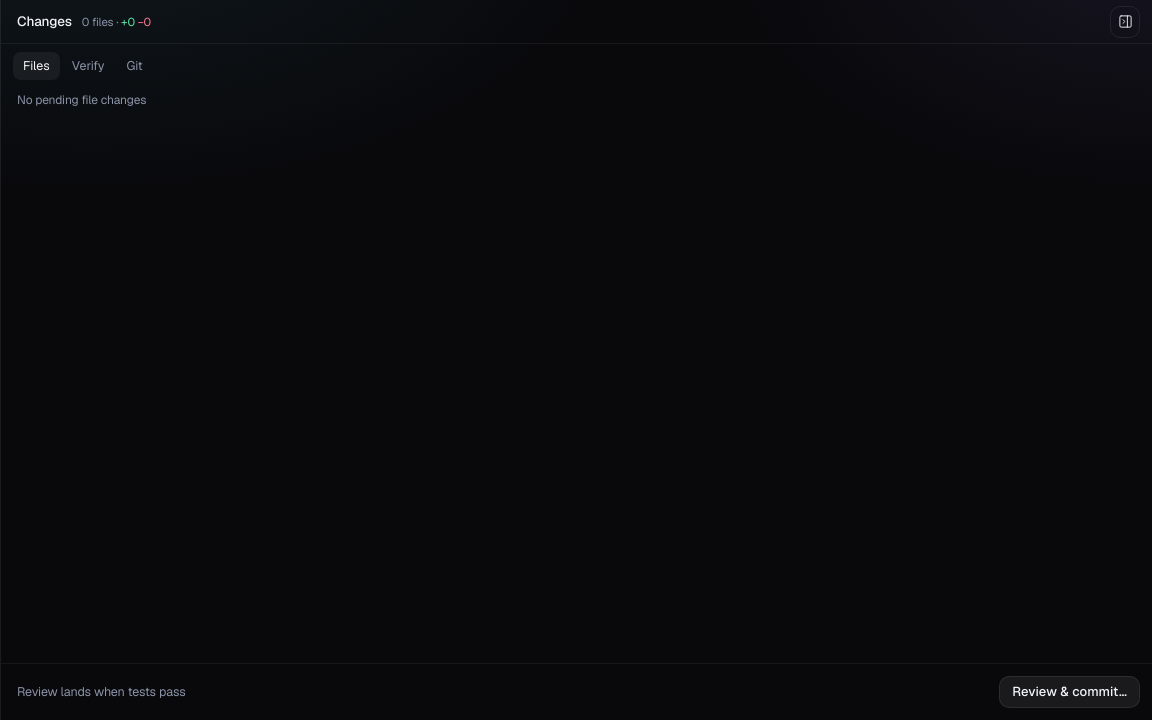
Scenario: executed gh pr is a PR member by durable command; no title/Open link (AC-05)
Click the tab "Git" at (134,66), box [116,52,153,80]
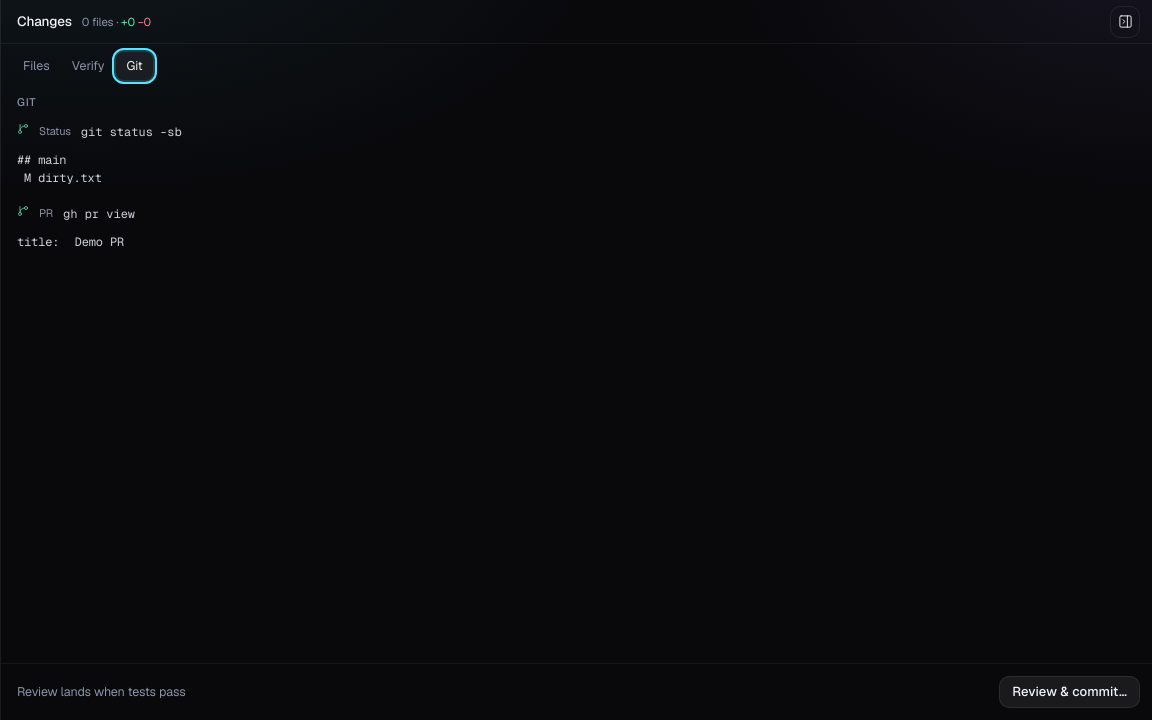
Expected: the text "PR" is shown, [39,204,53,221]
Expected: the text "gh pr view" is shown, [63,204,135,222]
